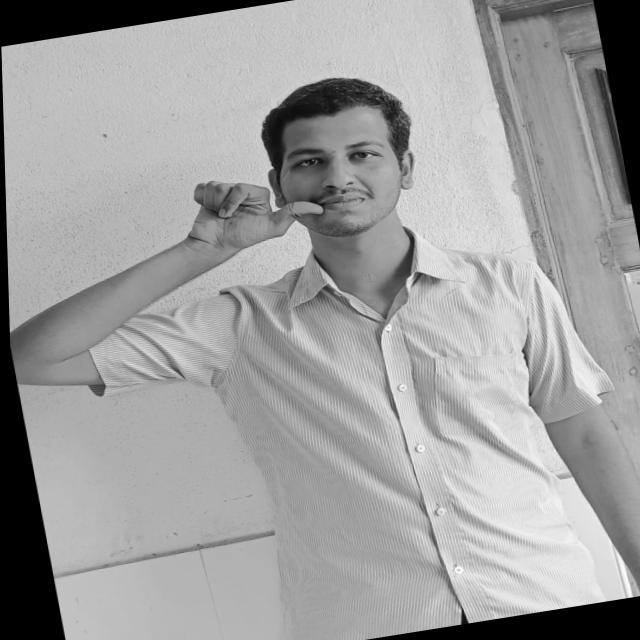Drink: (173, 160, 335, 268)
